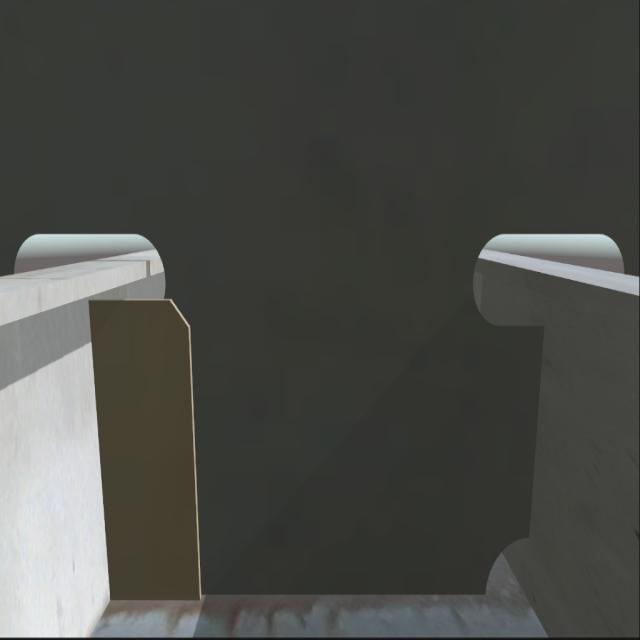fillet_hole: (484, 535, 528, 599)
fillet_yong_jeop_jang: (107, 586, 490, 607)
longi_yong_jeop_jang: (94, 292, 112, 604), (525, 321, 547, 535)
plate_CP03: (106, 296, 201, 600)
